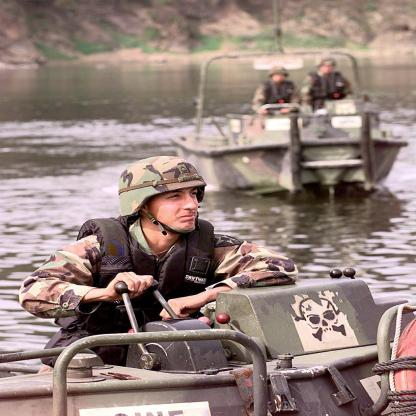Helmet: (117, 155, 208, 237), (314, 56, 338, 78), (268, 65, 290, 83)
